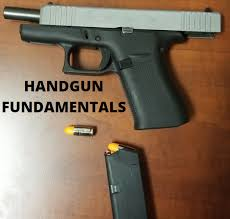gun: (2, 5, 228, 132)
